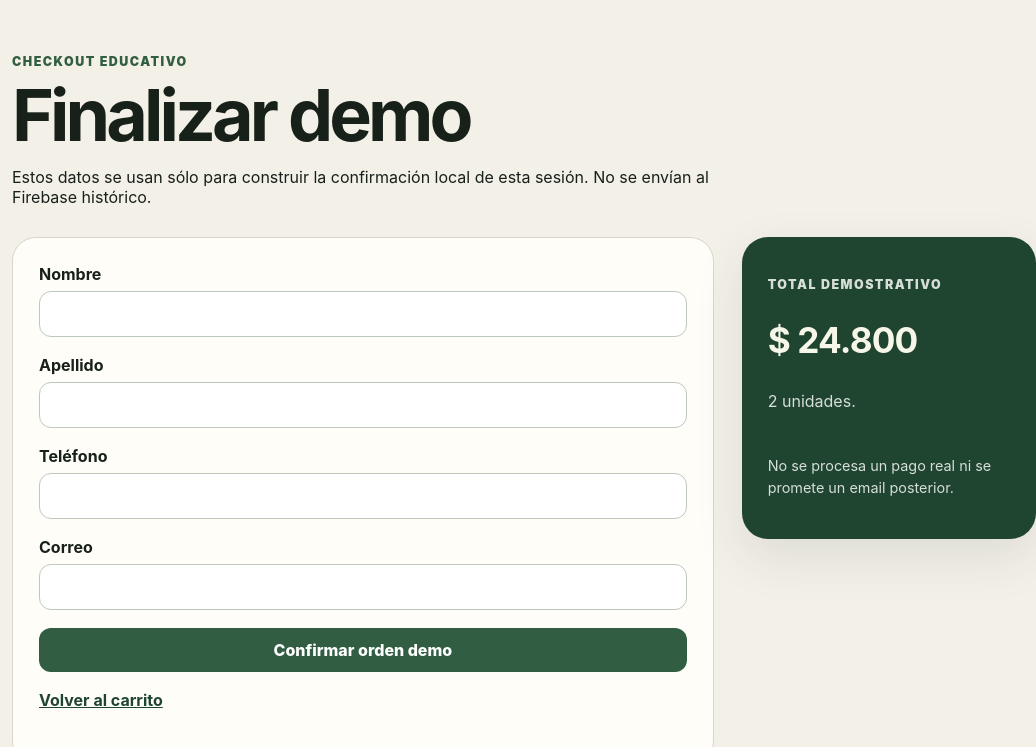
checkout UI contract › keeps the cart recoverable when persistence fails
The width and height of the screenshot is (1036, 747).
Type "Ada" into the field labelled "Nombre" at (363, 314), box 39,291 -> 687,337
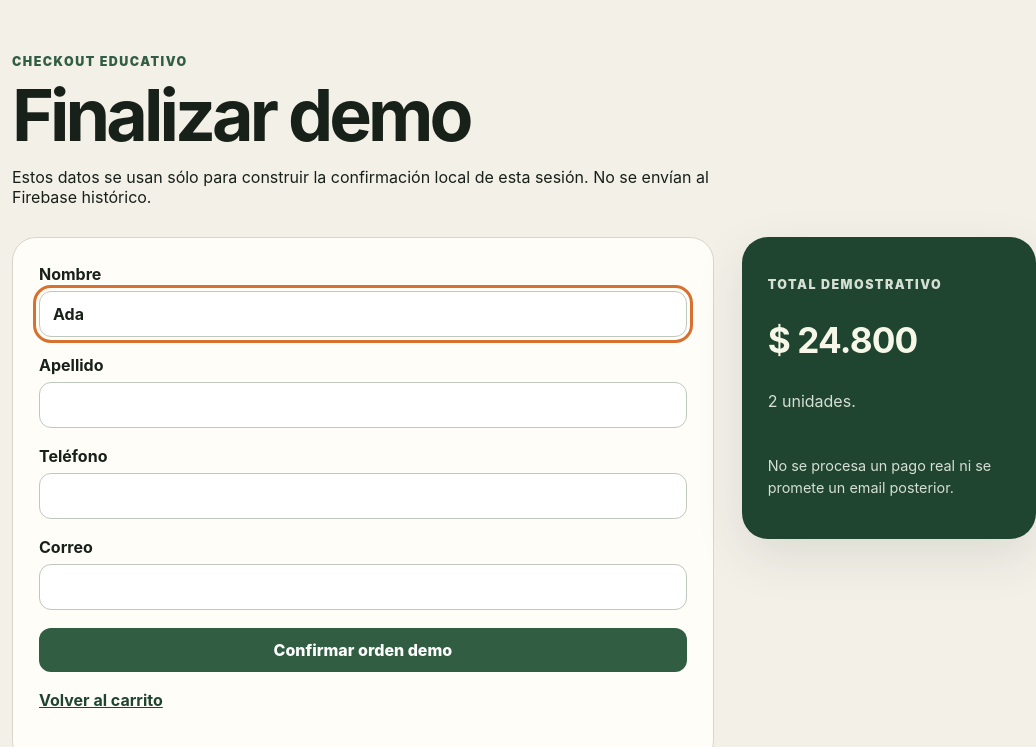
Type "Lovelace" into the field labelled "Apellido" at (363, 405), box 39,382 -> 687,428
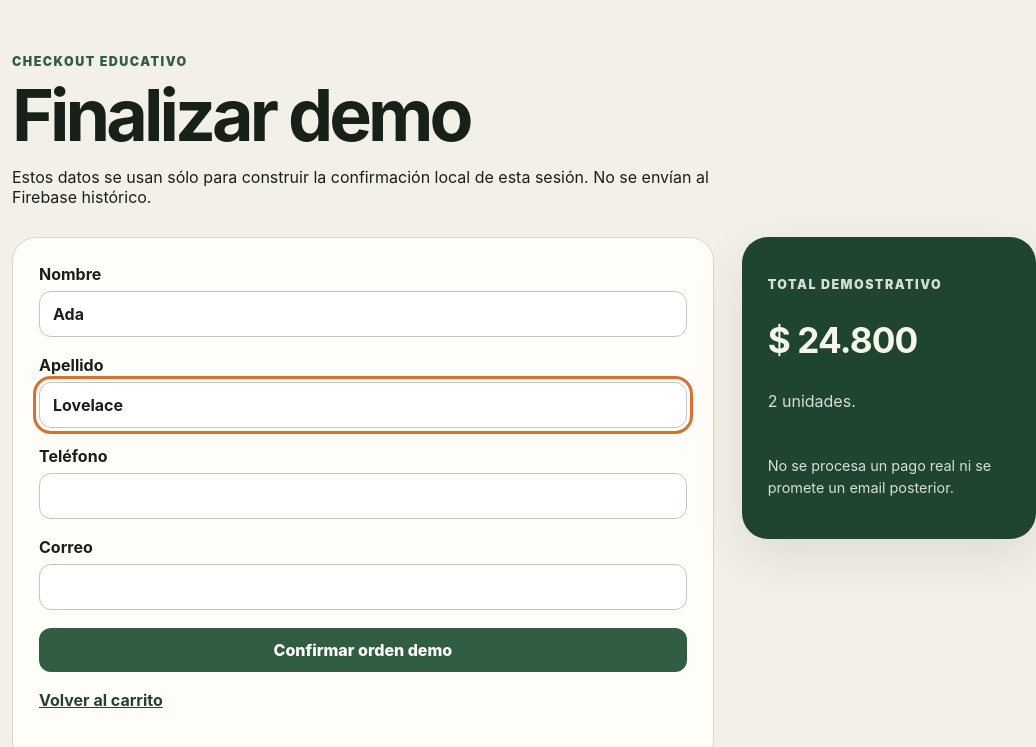
Type "+54 221 555 1212" into the field labelled "Teléfono" at (363, 496), box 39,473 -> 687,519
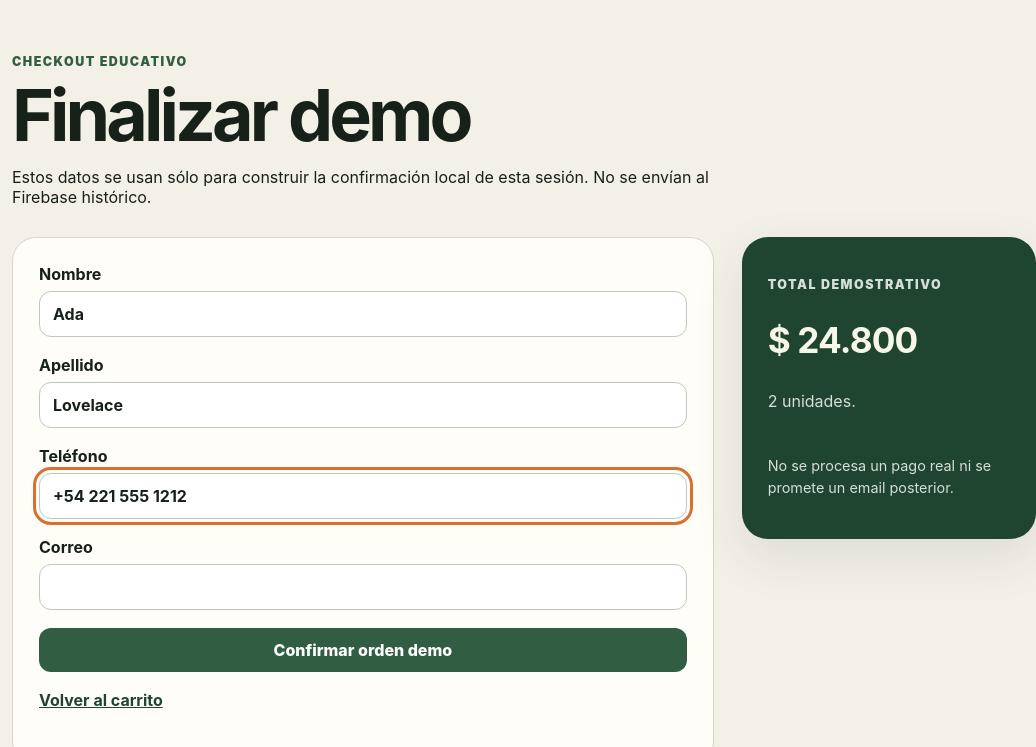
Type "ada@example.com" into the field labelled "Correo" at (363, 587), box 39,564 -> 687,610
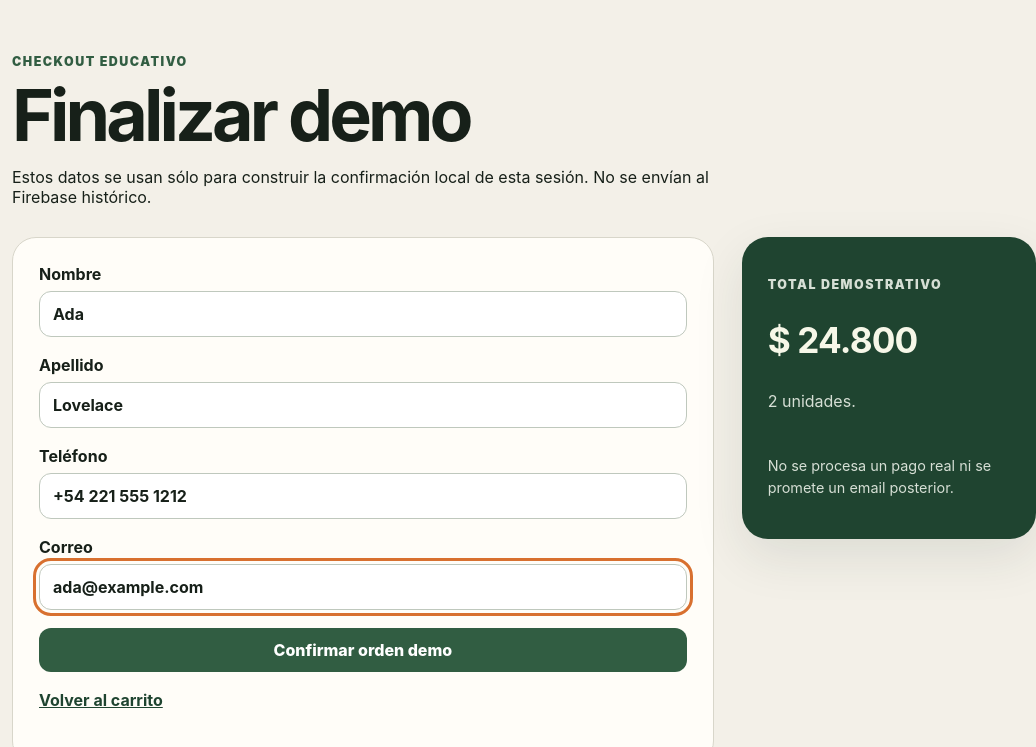
Click the button "Confirmar orden demo" at (363, 650), box 39,628 -> 687,672
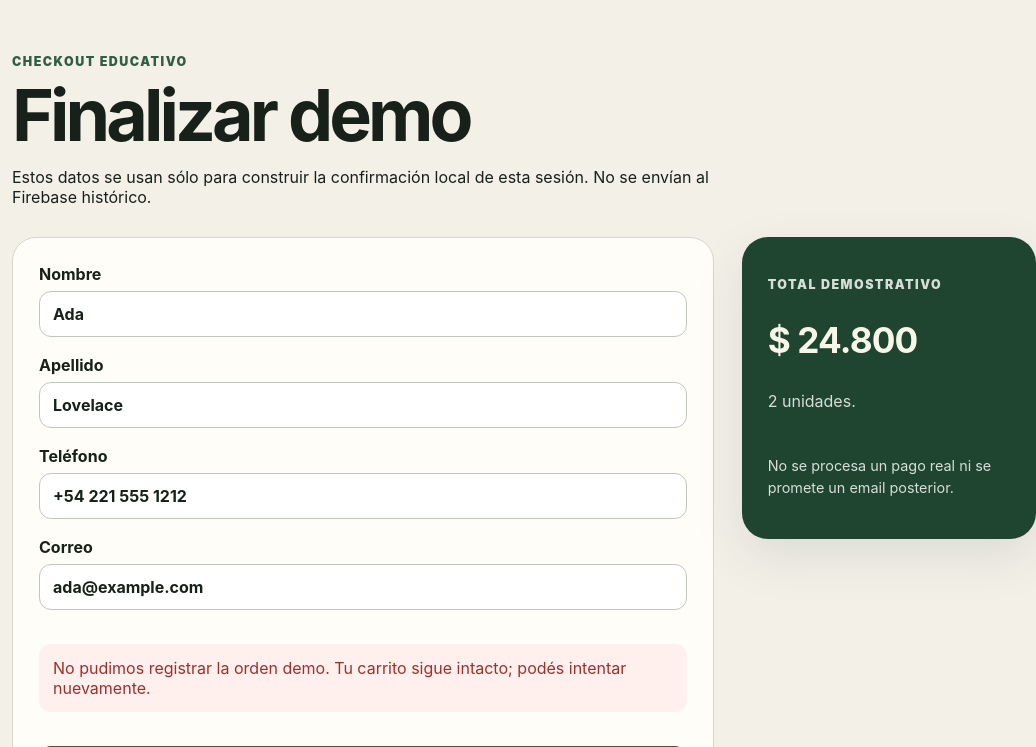
Check: the text "2 unidades." is shown, box 768,391 -> 856,411
Check: the message shows "carrito sigue intacto", box 53,658 -> 626,698
